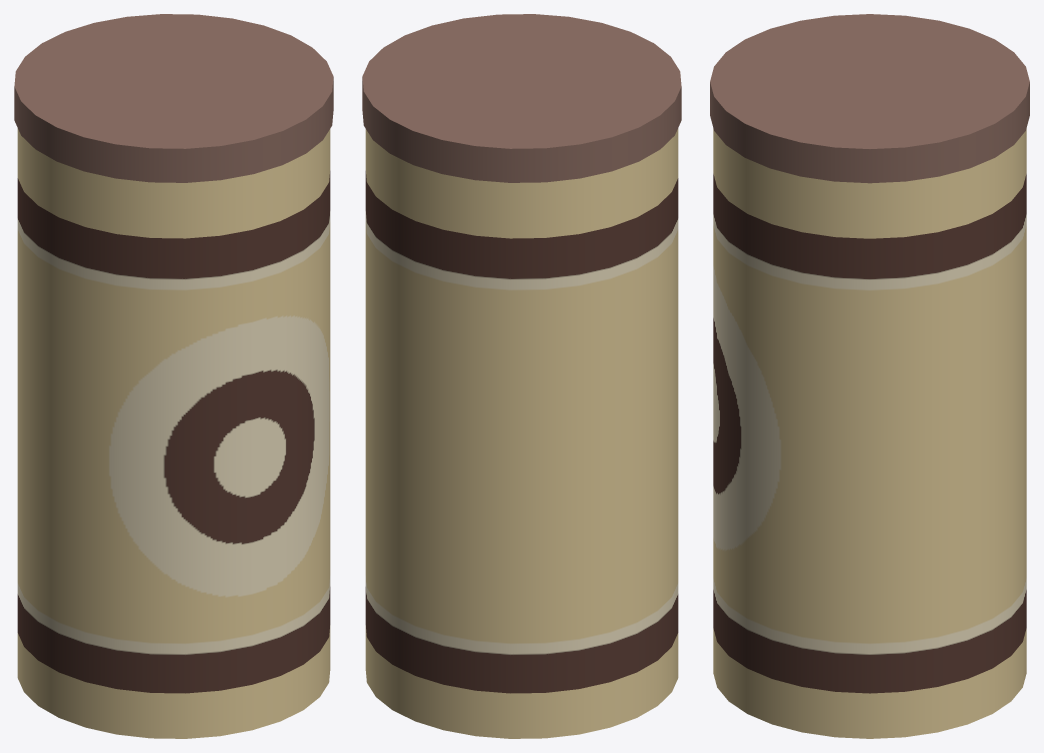
Rendered from Oats.fbx.
3 renders of one model, left to right at view 1: azimuth 30°, elevation 25°; view 2: azimuth 150°, elevation 25°; view 3: azimuth 270°, elevation 25°, orthographic.
Visible parts, largest first — view 1: Oats; view 2: Oats; view 3: Oats.
Boxes of the visible parts, x1,y1,x2,y2 form: Oats: (14,14,333,738); Oats: (362,14,681,738); Oats: (710,14,1029,738).
Size of the model in its own units: 0.102 by 0.212 by 0.102.
3 materials, 1 textured.
